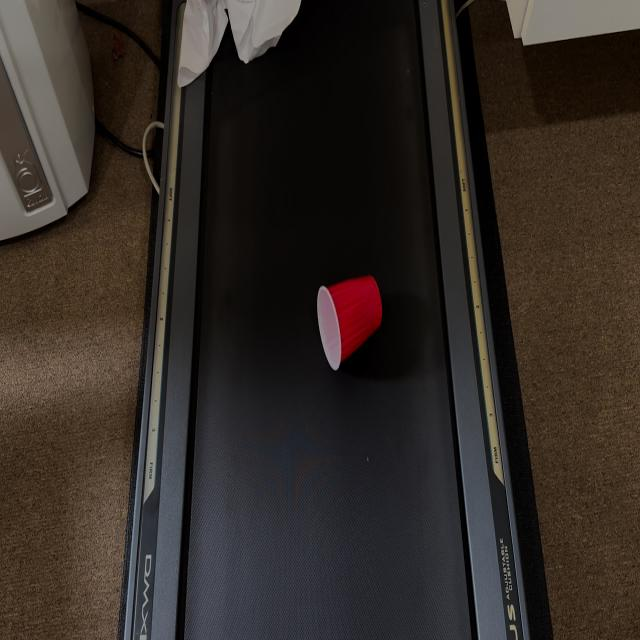Trash: (313, 250, 394, 380)
